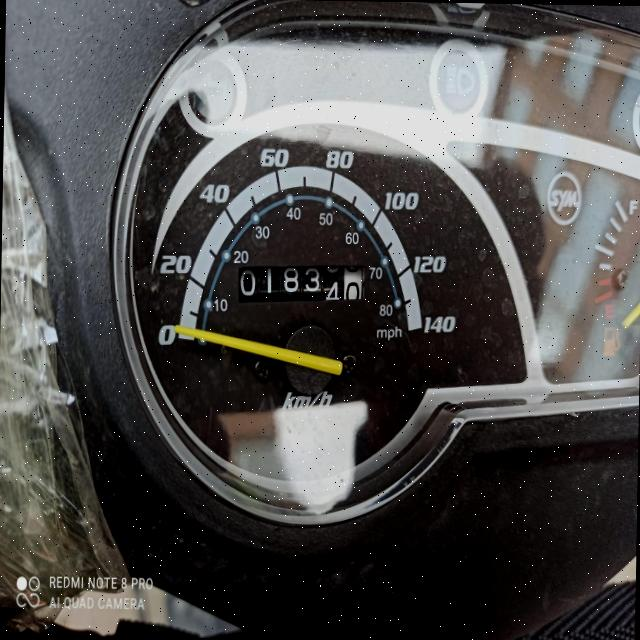odometer: (236, 262, 365, 302)
